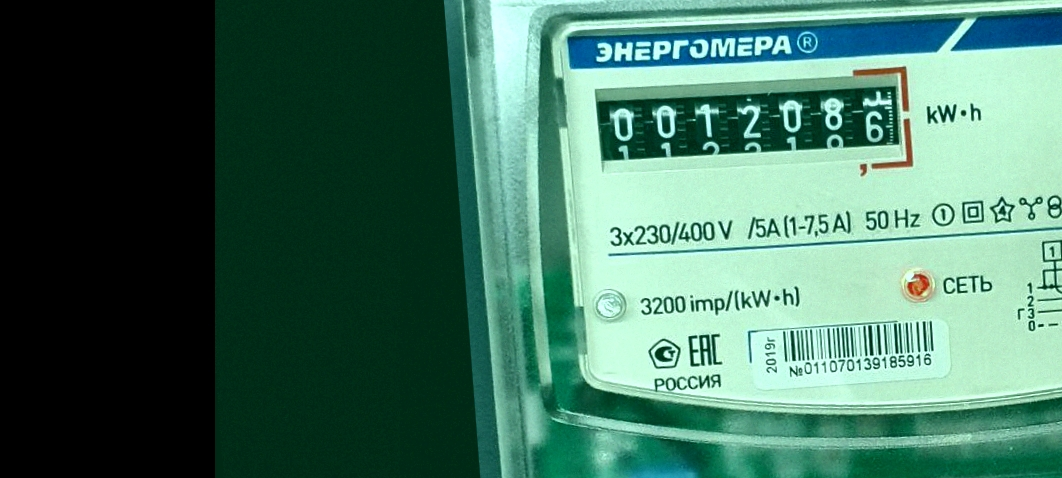0: (609, 103, 638, 143), (653, 101, 680, 140), (778, 96, 805, 134)
1: (695, 99, 719, 140)
2: (737, 101, 766, 141)
6: (861, 107, 887, 144)
8: (819, 94, 847, 132)
screen: (587, 57, 924, 196)
